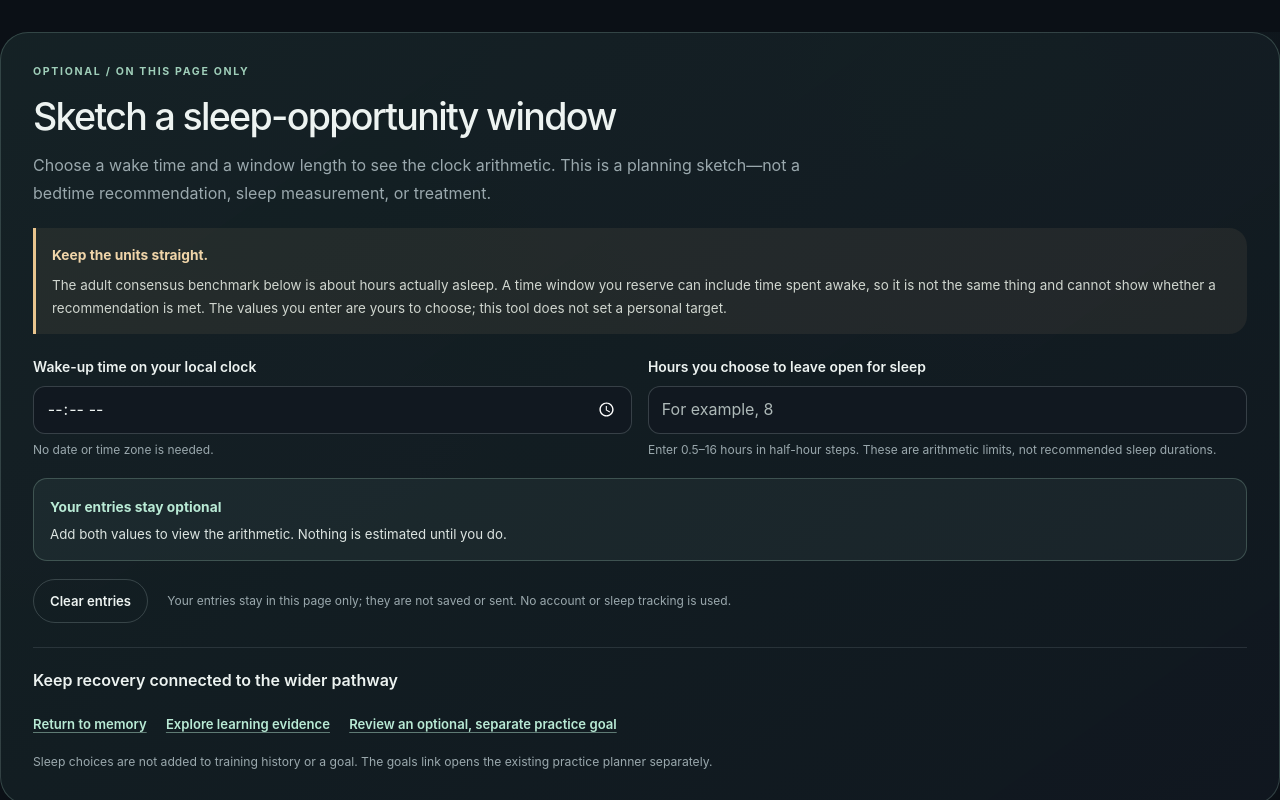
sleep-opportunity planner › calculates a previous-day window from the user's chosen inputs without saving data
The width and height of the screenshot is (1280, 800).
In the time field labelled "Wake-up time on your local clock": (332, 410) [33, 386, 632, 434], type "06:30"
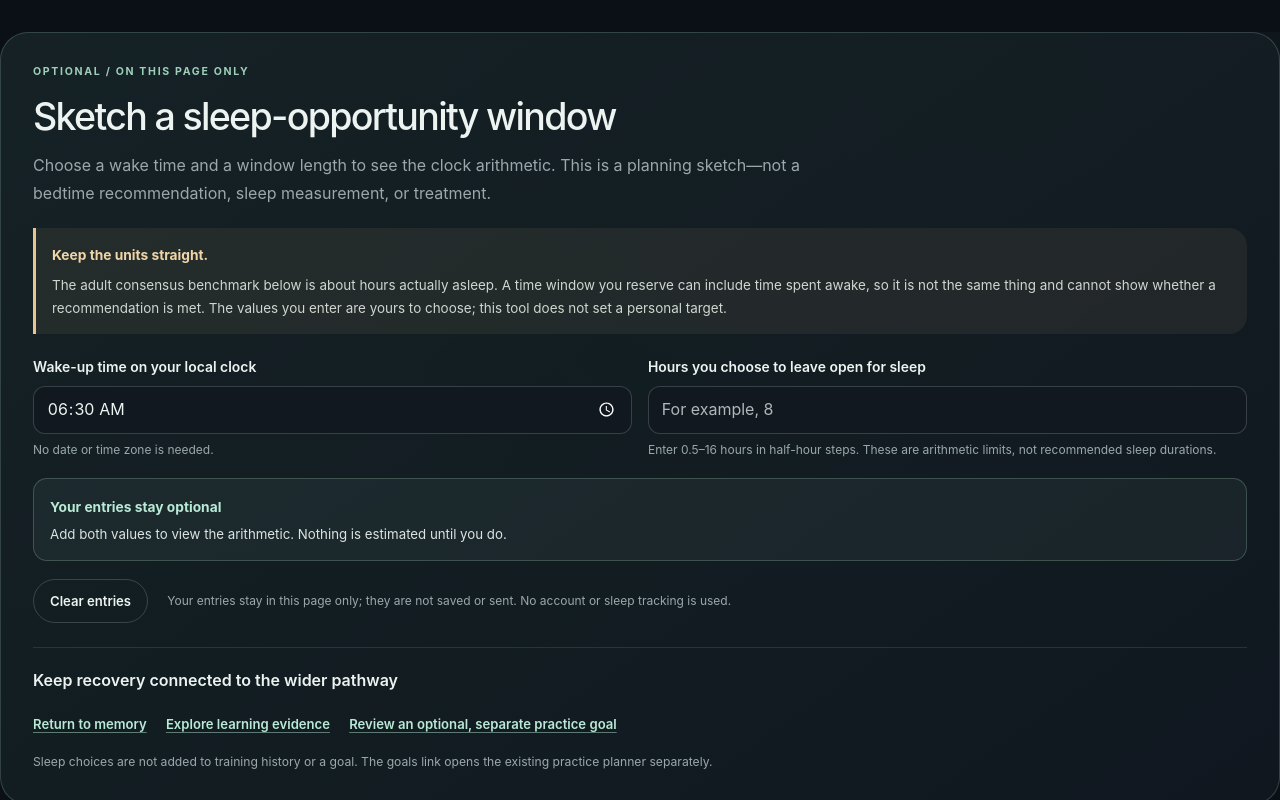
In the number field labelled "Hours you choose to leave open for sleep": (948, 410) [648, 386, 1247, 434], type "8"
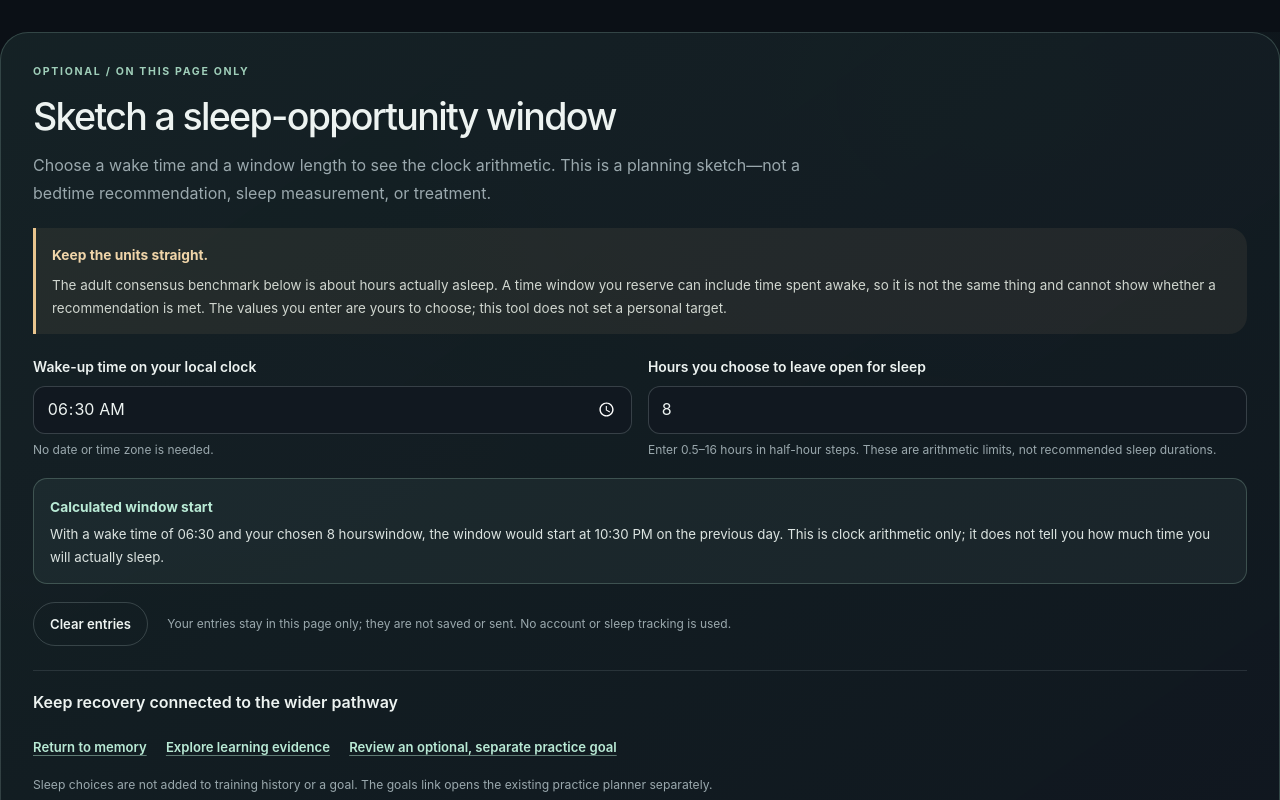
Expected: the message shows "start at 10:30 PM on the previous day", [33, 478, 1247, 584]
Expected: the message shows "clock arithmetic only", [50, 526, 1210, 565]
